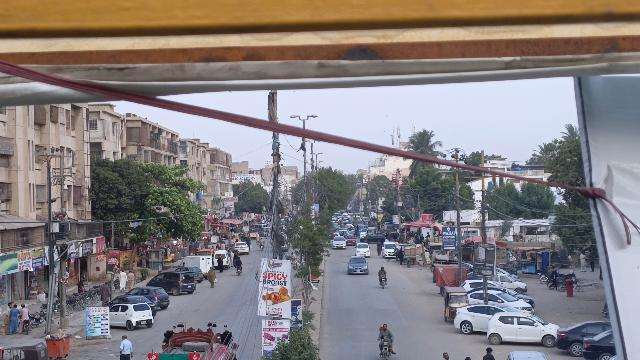Bike: (377, 338, 396, 360), (19, 303, 31, 336), (376, 272, 390, 289), (234, 265, 244, 276)
Bus: (146, 326, 239, 360)
Car: (485, 309, 560, 347), (555, 316, 612, 357), (451, 303, 520, 334), (147, 271, 197, 295), (110, 303, 154, 329), (580, 327, 613, 360), (126, 285, 170, 309), (345, 255, 370, 276), (506, 348, 547, 360)
Person: (115, 334, 135, 360), (8, 304, 20, 334), (377, 320, 393, 340), (206, 266, 219, 289), (100, 280, 110, 305), (117, 268, 126, 292), (126, 268, 135, 290), (482, 345, 494, 360), (379, 264, 387, 277), (236, 256, 244, 267)
Rickshaw: (441, 284, 469, 323)
Truck: (179, 253, 213, 278)
